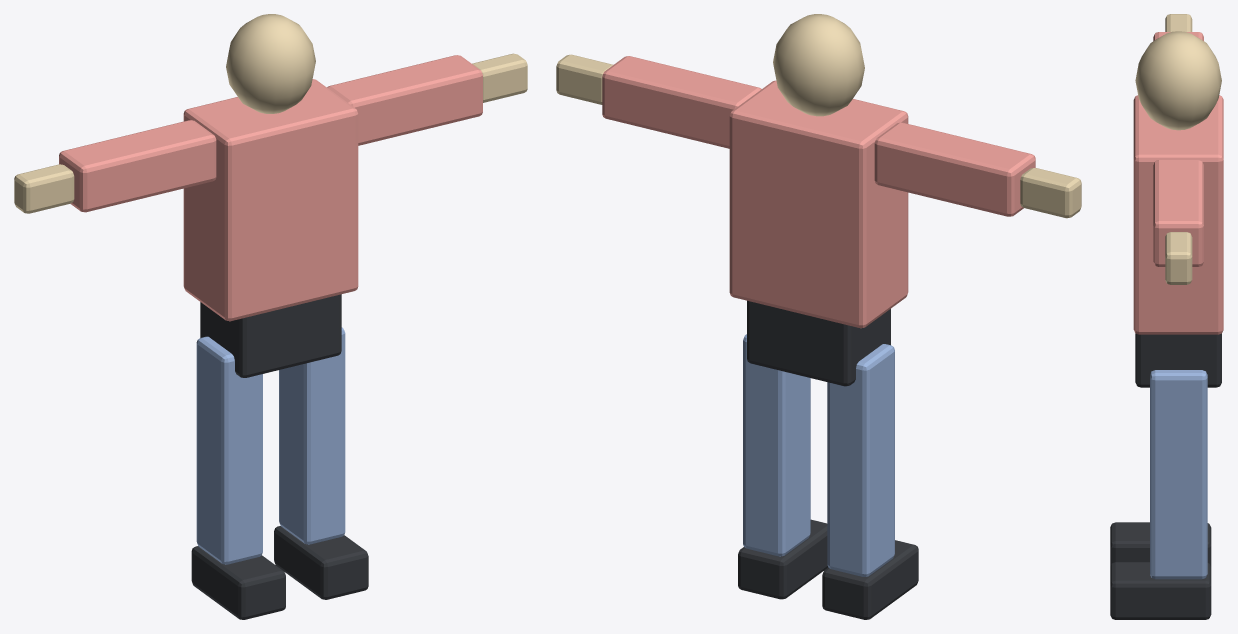
Rendered from TravelerA_blockout.glb.
The picture shows the model from 3 angles, left to right: view 1: azimuth 30°, elevation 25°; view 2: azimuth 150°, elevation 25°; view 3: azimuth 270°, elevation 25°; orthographic projection. The views are drawn at different scales.
Visible parts, largest first — view 1: CHR01_TravelerA_Jacket_L0, CHR01_TravelerA_LegR_L0, CHR01_TravelerA_LegL_L0, CHR01_TravelerA_ArmR_L0, CHR01_TravelerA_ArmL_L0, CHR01_TravelerA_Pelvis_L0, CHR01_TravelerA_Head_L0, CHR01_TravelerA_ShoeR_L0, CHR01_TravelerA_ShoeL_L0, CHR01_TravelerA_HandR_L0, CHR01_TravelerA_HandL_L0; view 2: CHR01_TravelerA_Jacket_L0, CHR01_TravelerA_LegR_L0, CHR01_TravelerA_LegL_L0, CHR01_TravelerA_ArmR_L0, CHR01_TravelerA_ArmL_L0, CHR01_TravelerA_Pelvis_L0, CHR01_TravelerA_Head_L0, CHR01_TravelerA_ShoeR_L0, CHR01_TravelerA_ShoeL_L0, CHR01_TravelerA_HandR_L0, CHR01_TravelerA_HandL_L0; view 3: CHR01_TravelerA_Jacket_L0, CHR01_TravelerA_LegL_L0, CHR01_TravelerA_Head_L0, CHR01_TravelerA_ShoeL_L0, CHR01_TravelerA_ArmL_L0, CHR01_TravelerA_Pelvis_L0, CHR01_TravelerA_ShoeR_L0, CHR01_TravelerA_HandL_L0, CHR01_TravelerA_HandR_L0.
Part boxes in pixels (x1=…): CHR01_TravelerA_Jacket_L0: x1=183, y1=79, x2=358, y2=321; CHR01_TravelerA_LegR_L0: x1=196, y1=336, x2=262, y2=564; CHR01_TravelerA_LegL_L0: x1=279, y1=327, x2=345, y2=544; CHR01_TravelerA_ArmR_L0: x1=59, y1=120, x2=216, y2=212; CHR01_TravelerA_ArmL_L0: x1=327, y1=55, x2=482, y2=145; CHR01_TravelerA_Pelvis_L0: x1=200, y1=294, x2=341, y2=377; CHR01_TravelerA_Head_L0: x1=226, y1=14, x2=315, y2=113; CHR01_TravelerA_ShoeR_L0: x1=191, y1=546, x2=285, y2=619; CHR01_TravelerA_ShoeL_L0: x1=274, y1=526, x2=368, y2=599; CHR01_TravelerA_HandR_L0: x1=14, y1=164, x2=74, y2=213; CHR01_TravelerA_HandL_L0: x1=472, y1=53, x2=527, y2=102; CHR01_TravelerA_Jacket_L0: x1=729, y1=80, x2=908, y2=328; CHR01_TravelerA_LegR_L0: x1=827, y1=344, x2=894, y2=576; CHR01_TravelerA_LegL_L0: x1=743, y1=334, x2=810, y2=556; CHR01_TravelerA_ArmR_L0: x1=874, y1=122, x2=1035, y2=216; CHR01_TravelerA_ArmL_L0: x1=602, y1=56, x2=761, y2=148; CHR01_TravelerA_Pelvis_L0: x1=747, y1=300, x2=890, y2=386; CHR01_TravelerA_Head_L0: x1=773, y1=14, x2=864, y2=116; CHR01_TravelerA_ShoeR_L0: x1=822, y1=540, x2=918, y2=619; CHR01_TravelerA_ShoeL_L0: x1=738, y1=519, x2=828, y2=599; CHR01_TravelerA_HandR_L0: x1=1020, y1=168, x2=1081, y2=218; CHR01_TravelerA_HandL_L0: x1=556, y1=54, x2=613, y2=104; CHR01_TravelerA_Jacket_L0: x1=1133, y1=95, x2=1223, y2=334; CHR01_TravelerA_LegL_L0: x1=1150, y1=370, x2=1207, y2=579; CHR01_TravelerA_Head_L0: x1=1135, y1=31, x2=1221, y2=130; CHR01_TravelerA_ShoeL_L0: x1=1110, y1=562, x2=1211, y2=619; CHR01_TravelerA_ArmL_L0: x1=1153, y1=160, x2=1203, y2=266; CHR01_TravelerA_Pelvis_L0: x1=1135, y1=333, x2=1221, y2=387; CHR01_TravelerA_ShoeR_L0: x1=1110, y1=522, x2=1211, y2=566; CHR01_TravelerA_HandL_L0: x1=1165, y1=232, x2=1192, y2=284; CHR01_TravelerA_HandR_L0: x1=1165, y1=14, x2=1192, y2=31.
Size of the model in its own units: 1.59 by 1.7 by 0.315.
